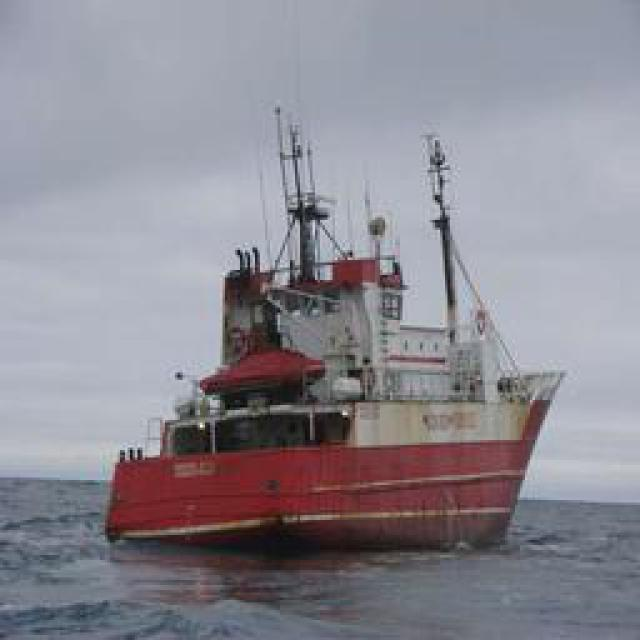Ship: (114, 91, 564, 556)
